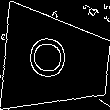O_E: (33, 37, 80, 86)
